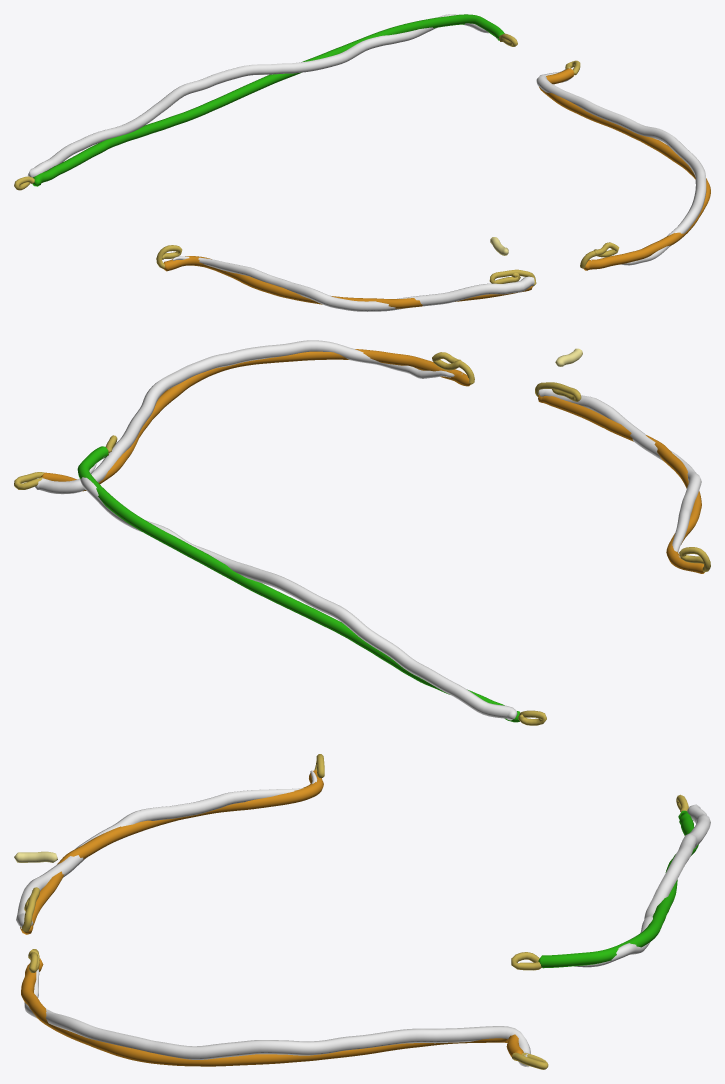
The model's file is Cable.fbx.
3 renders of one model, top to bottom at view 1: azimuth 30°, elevation 25°; view 2: azimuth 150°, elevation 25°; view 3: azimuth 270°, elevation 25°, orthographic. The views are drawn at different scales.
Parts seen in each view (by area): view 1: brush_NeonPulse_g0_b0, brush_Icing_g0_b0; view 2: brush_Icing_g0_b0, brush_NeonPulse_g0_b0; view 3: brush_NeonPulse_g0_b0, brush_Icing_g0_b0.
Boxes of the visible parts, left/top/right/bottom form: brush_NeonPulse_g0_b0: left=27, top=14, right=706, bottom=311; brush_Icing_g0_b0: left=14, top=14, right=710, bottom=308; brush_Icing_g0_b0: left=14, top=348, right=710, bottom=725; brush_NeonPulse_g0_b0: left=35, top=340, right=701, bottom=720; brush_NeonPulse_g0_b0: left=16, top=770, right=710, bottom=1067; brush_Icing_g0_b0: left=14, top=754, right=698, bottom=1069.
Size of the model in its own units: 58.85 by 10.78 by 54.53.
